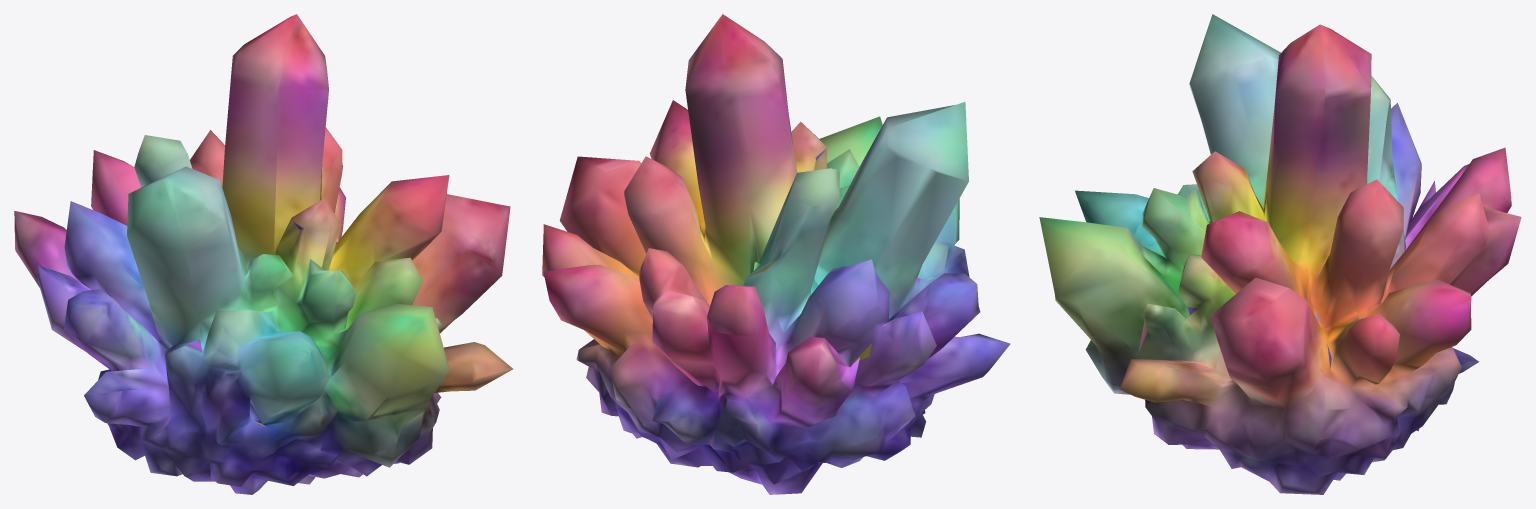
File: magic_stone.glb
3 views of the same model, side by side, from view 1: azimuth 30°, elevation 25°; view 2: azimuth 150°, elevation 25°; view 3: azimuth 270°, elevation 25° (orthographic).
Visible parts, largest first — view 1: LowPoly; view 2: LowPoly; view 3: LowPoly.
Part boxes in pixels (x1,y1,x2,y2): LowPoly: [14, 14, 513, 494]; LowPoly: [542, 14, 1010, 494]; LowPoly: [1039, 14, 1521, 494].
Bounding box in the file's own units: 1 × 1 × 0.9827.
Materials: 1 (1 with a texture image).
